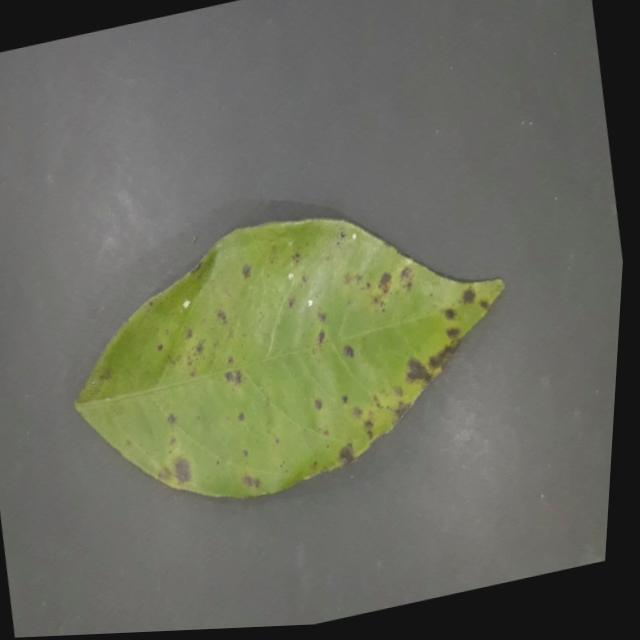greasy_spot: (74, 218, 502, 496)
